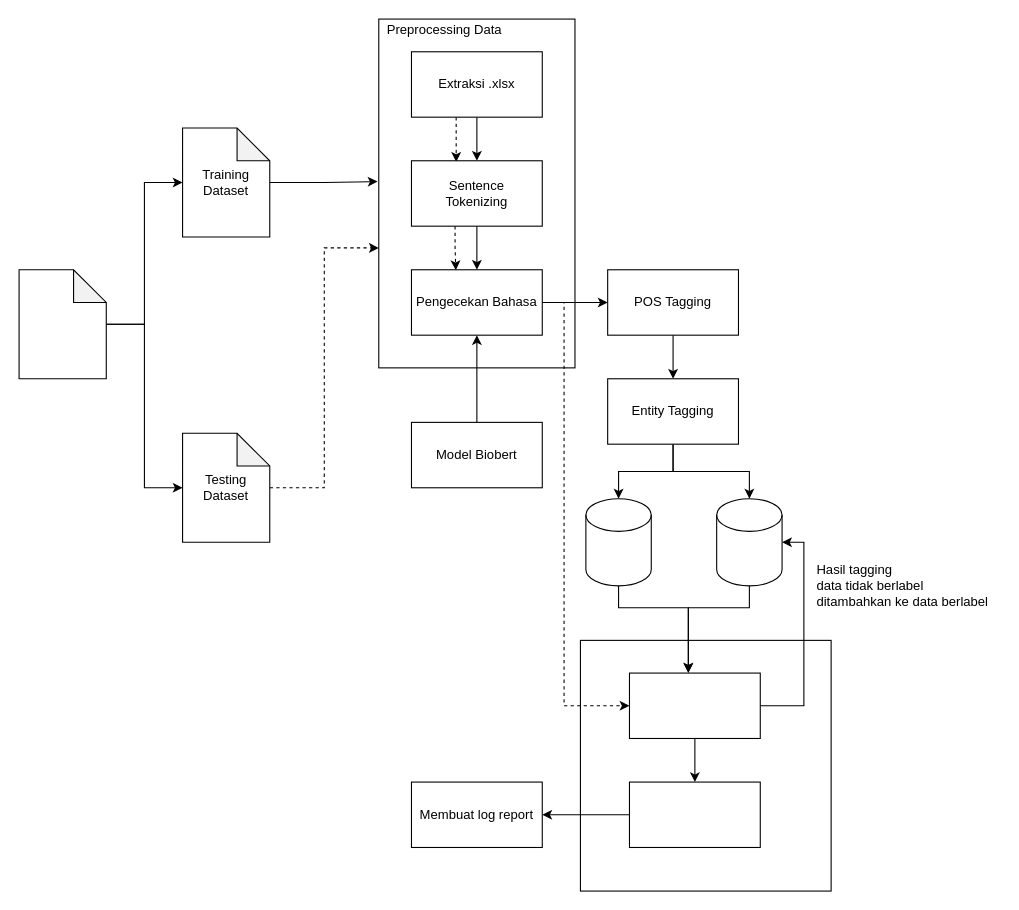
Image size: 1019x910. Some labels were removed from this diagram. The shapes that lost their labels are listed below. From the top down, each one's centre as x and y in pixels, then its label:
point (62, 324): Gold Standard Corpus.xlsx
point (618, 542): Data Berlabel
point (749, 542): Data Tidak Berlabel
point (694, 705): Model Baru Relation Extraction
point (694, 814): Output train, validation testing, predict, dan F-1 Score
